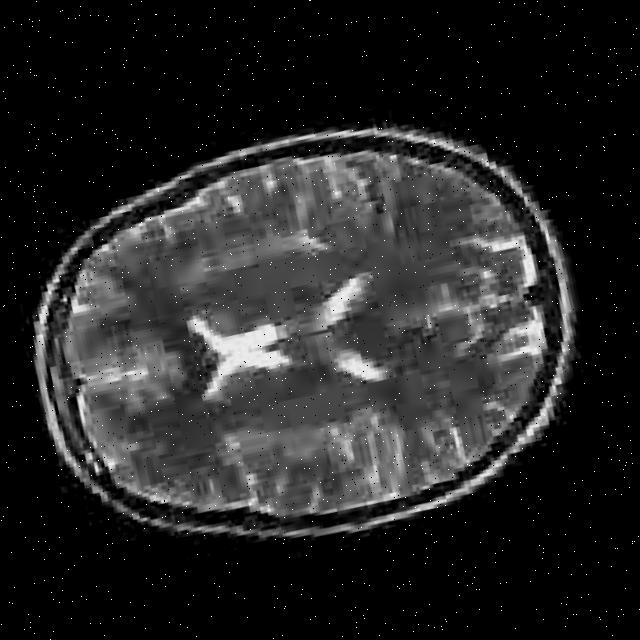NoTumor: (0, 47, 637, 621)
